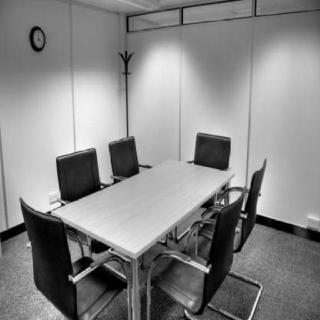other: (152, 56, 190, 88), (184, 181, 221, 203)
